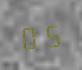five: (41, 20, 62, 48)
zero: (19, 21, 40, 50)
